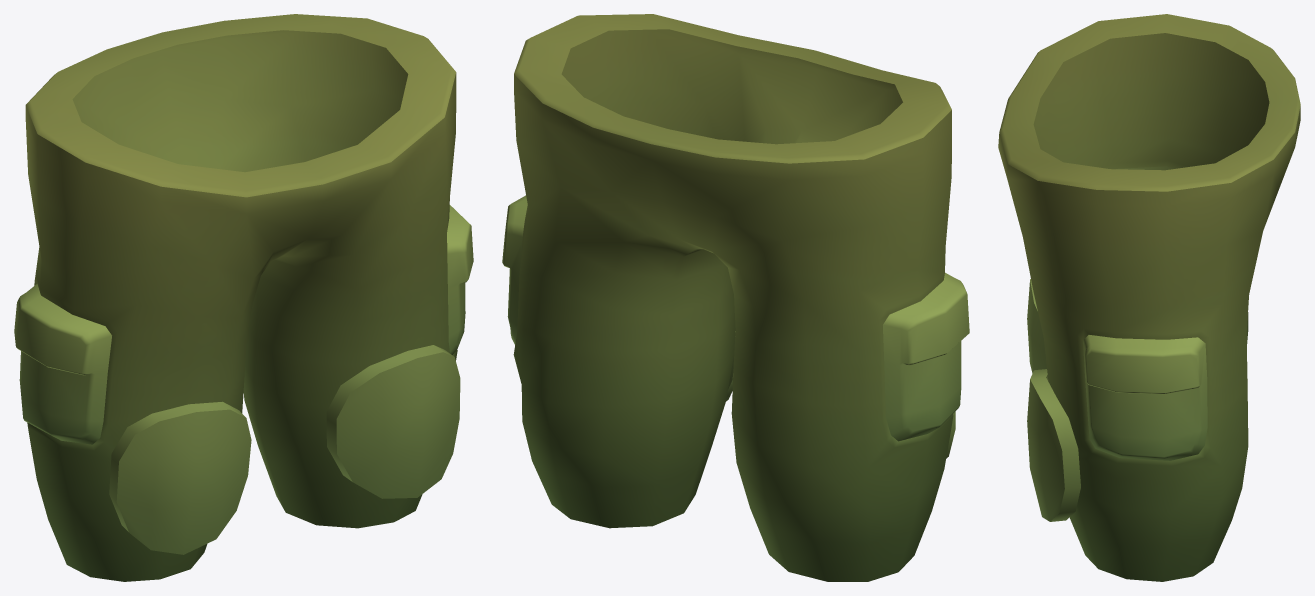
File: Costume_11_05.glb
The picture shows the model from 3 angles, left to right: view 1: azimuth 30°, elevation 25°; view 2: azimuth 150°, elevation 25°; view 3: azimuth 270°, elevation 25°; orthographic projection. The views are drawn at different scales.
Parts seen in each view (by area): view 1: Costume_11_05; view 2: Costume_11_05; view 3: Costume_11_05.
Boxes of the visible parts, x1=… form: Costume_11_05: x1=14, y1=14, x2=473, y2=581; Costume_11_05: x1=502, y1=14, x2=969, y2=581; Costume_11_05: x1=998, y1=14, x2=1300, y2=581.
Size of the model in its own units: 0.2748 by 0.2647 by 0.1787.
Materials: 1 (1 with a texture image).
